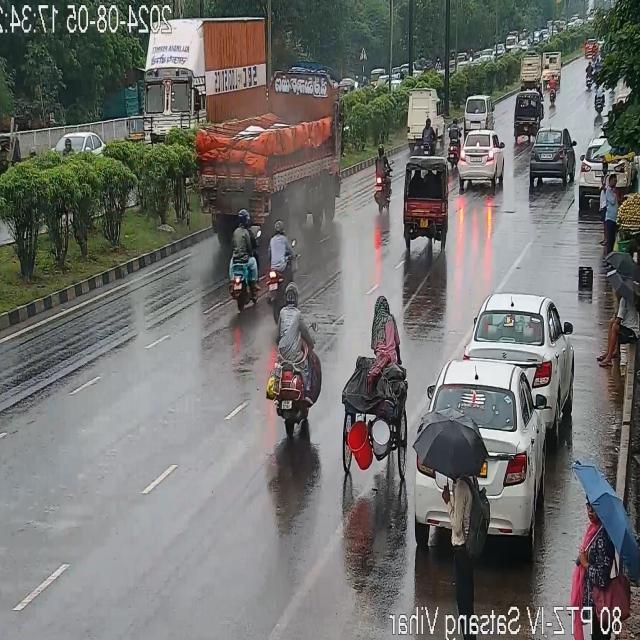2-wheelers: (278, 278, 314, 442), (228, 211, 260, 318), (269, 206, 299, 314), (367, 144, 392, 211), (405, 121, 439, 158), (549, 73, 557, 109)
auto: (334, 298, 412, 480), (400, 159, 451, 241), (512, 90, 542, 140), (460, 94, 490, 126), (0, 131, 16, 179), (521, 52, 542, 85), (542, 54, 562, 87)
car: (420, 364, 552, 472), (469, 294, 572, 406), (528, 123, 572, 192), (456, 132, 504, 190), (406, 90, 444, 146)
pedestrian: (417, 419, 492, 562), (580, 492, 628, 640), (598, 290, 638, 370), (598, 168, 618, 252), (596, 158, 608, 250)
truck: (210, 70, 342, 232), (134, 8, 262, 160)
